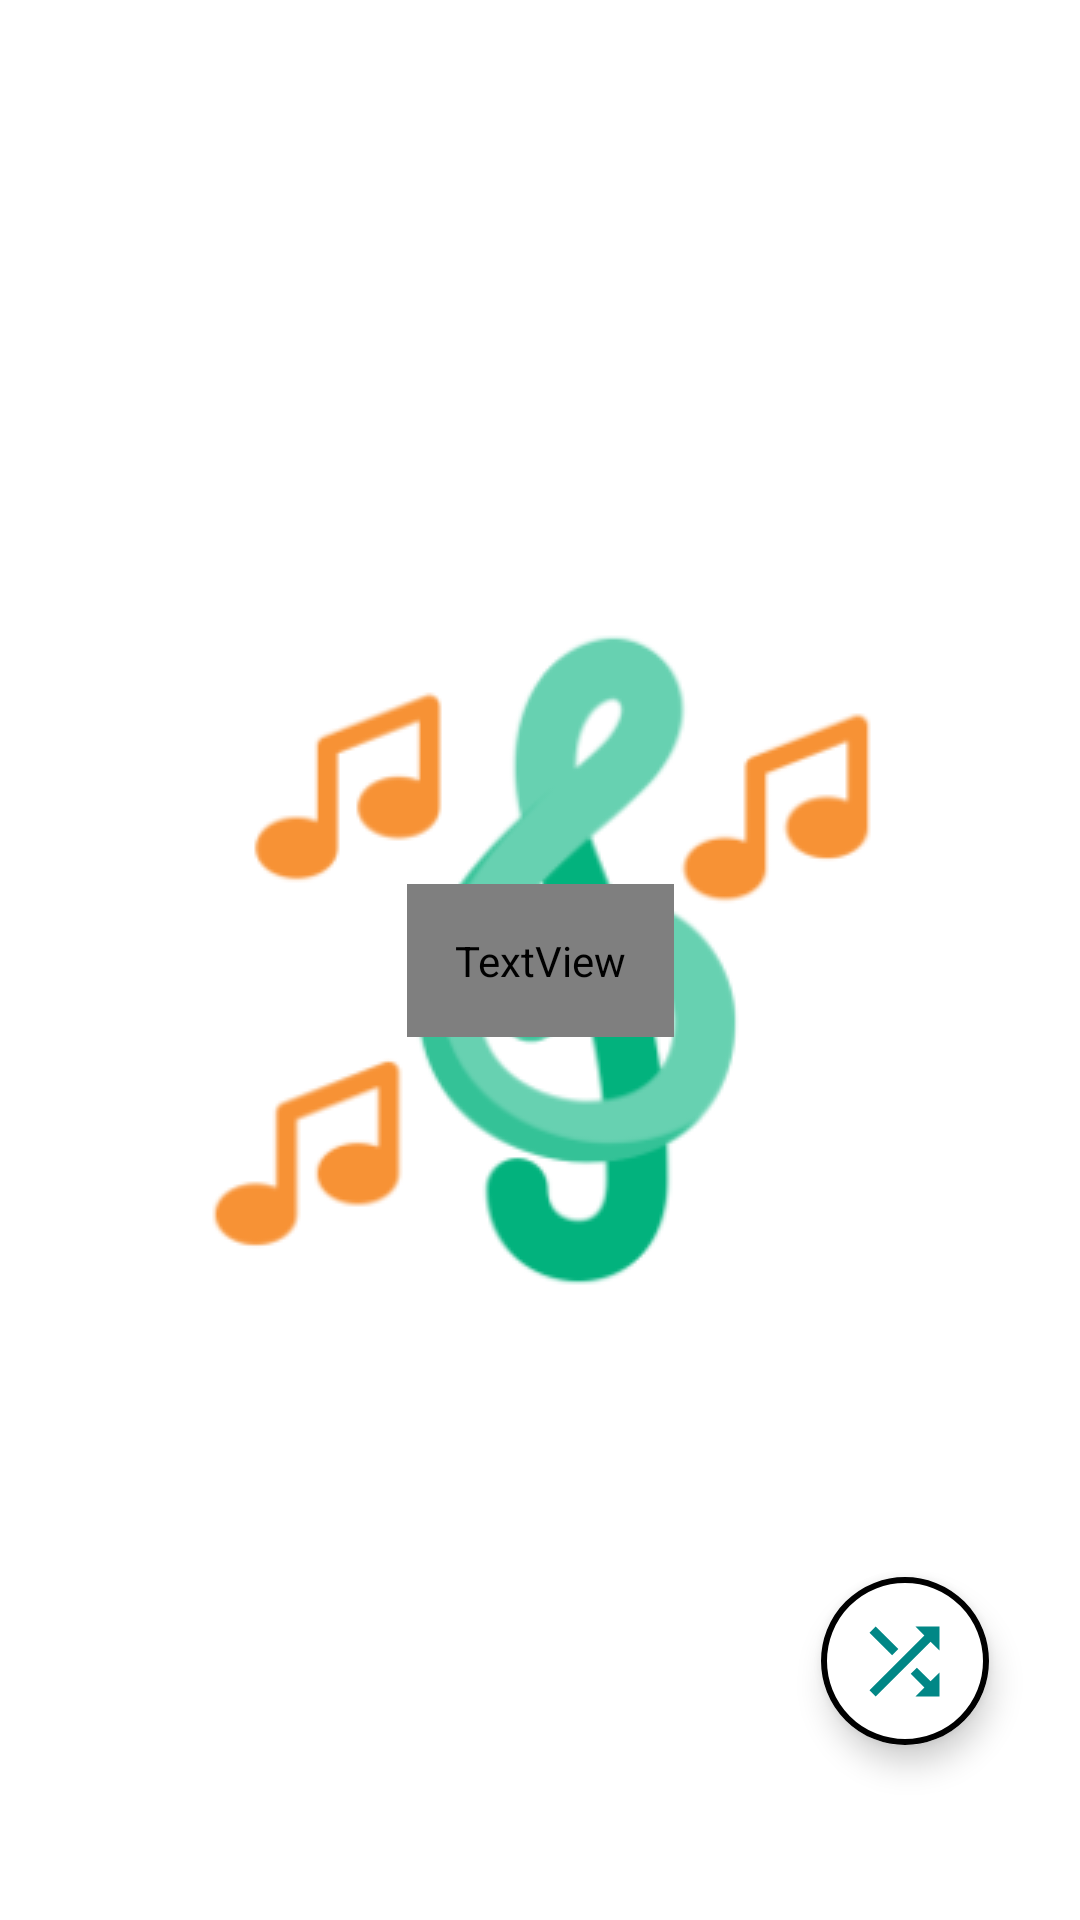

Where to tap for icons on this 1080 x 1920 app screen, as (x,y):
shuffle: (905,1661)
